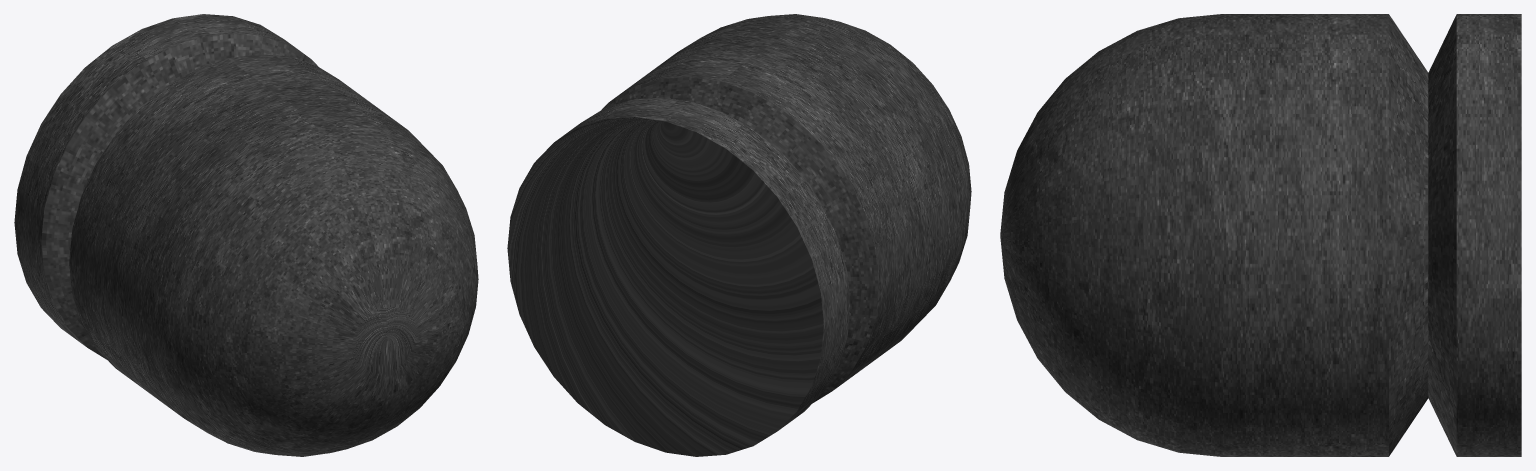
The model's file is Shell.FBX.
The picture shows the model from 3 angles, left to right: view 1: azimuth 30°, elevation 25°; view 2: azimuth 150°, elevation 25°; view 3: azimuth 270°, elevation 25°; orthographic projection. The views are drawn at different scales.
Visible parts, largest first — view 1: Sphere002; view 2: Sphere002; view 3: Sphere002.
Boxes of the visible parts, left/top/right/bottom form: Sphere002: left=14, top=14, right=478, bottom=456; Sphere002: left=507, top=14, right=971, bottom=456; Sphere002: left=1000, top=14, right=1521, bottom=456.
Bounding box in the file's own units: 0.1267 × 0.1267 × 0.149.
